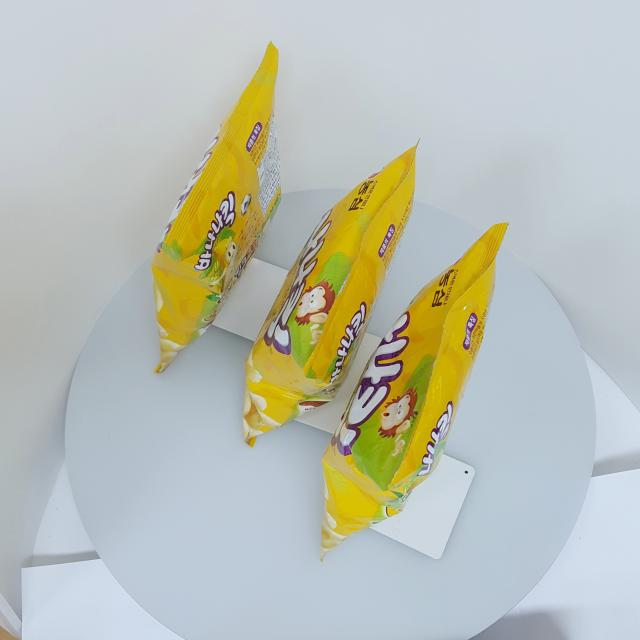-75G: (322, 223, 511, 563), (244, 139, 422, 448), (152, 41, 282, 374)
